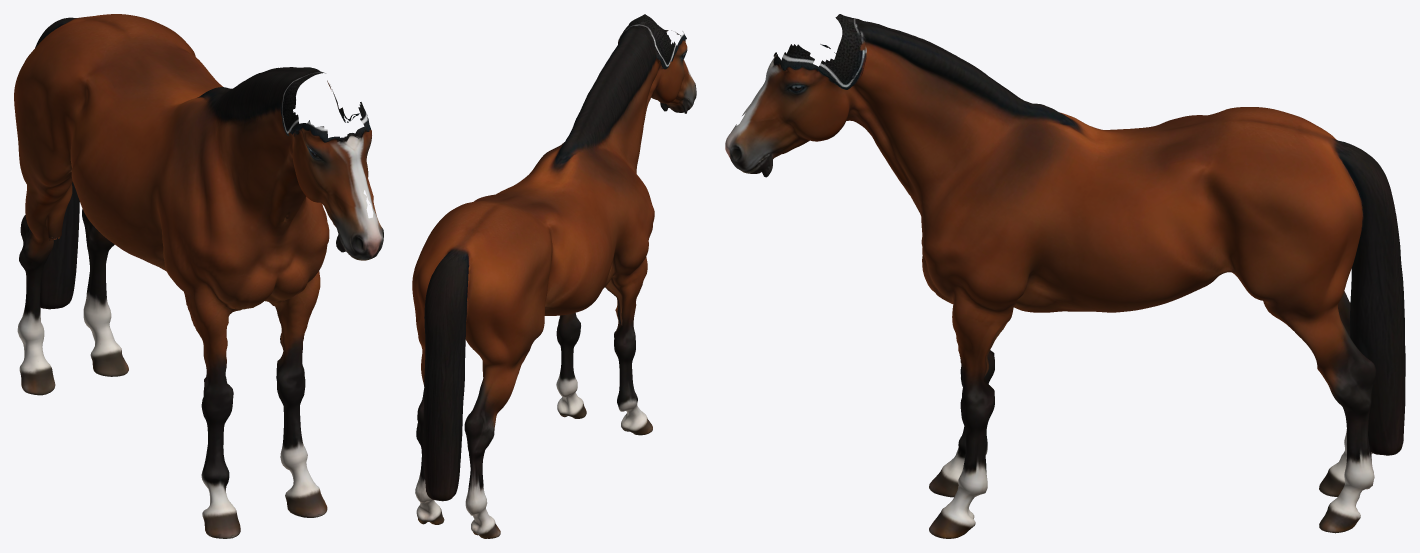
The model's file is horse-ear-bonnet.glb.
3 views of the same model, side by side, from view 1: azimuth 30°, elevation 25°; view 2: azimuth 150°, elevation 25°; view 3: azimuth 270°, elevation 25° (orthographic). The views are drawn at different scales.
Parts seen in each view (by area): view 1: tripo_node_c33a621a; view 2: tripo_node_c33a621a; view 3: tripo_node_c33a621a.
Part boxes in pixels (x1=…): tripo_node_c33a621a: x1=14, y1=14, x2=383, y2=538; tripo_node_c33a621a: x1=412, y1=14, x2=696, y2=538; tripo_node_c33a621a: x1=725, y1=14, x2=1405, y2=538.
Bounding box in the file's own units: 0.6613 × 1.88 × 2.34.
1 material, 1 textured.
